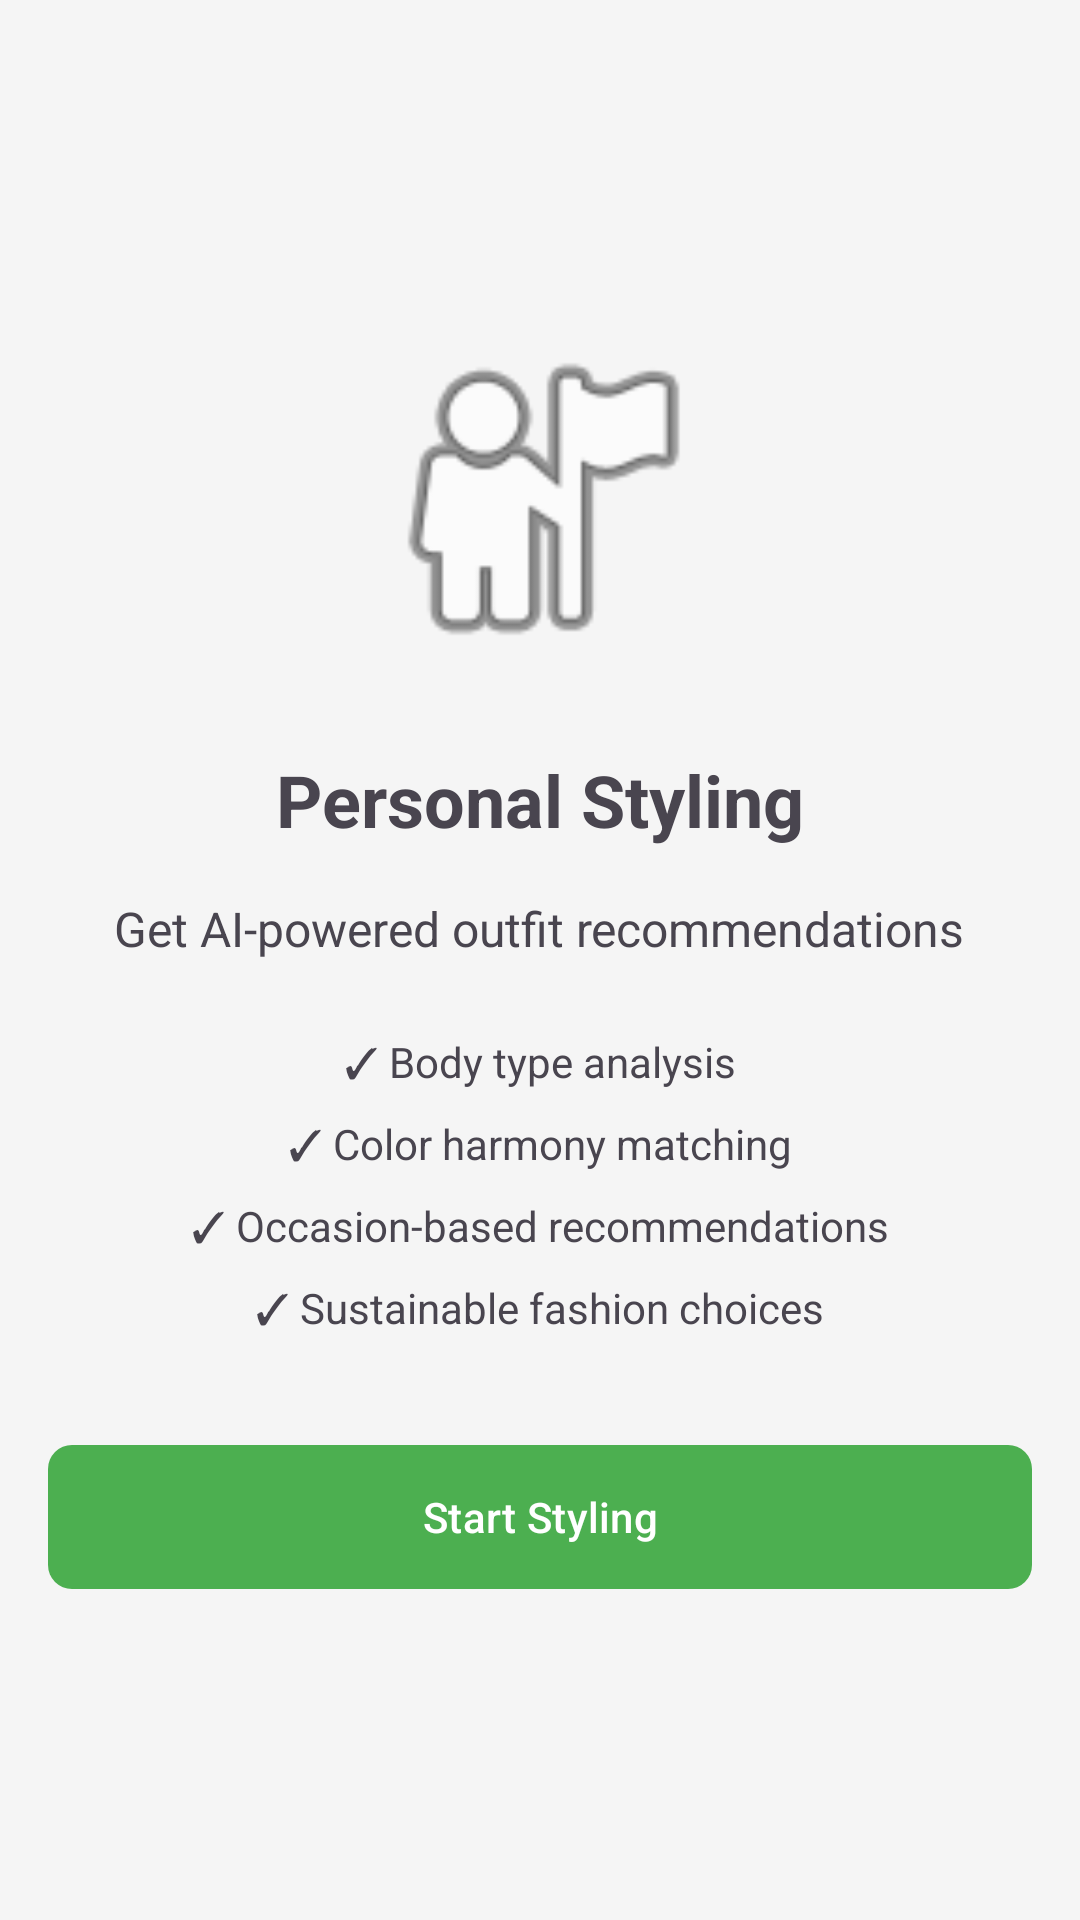

Icons on this 1080 × 1920 Android screen, each with its box as {"left": x1, "top": y1, "right": x2, "bottom": y2}:
People Style: {"left": 408, "top": 364, "right": 679, "bottom": 634}
